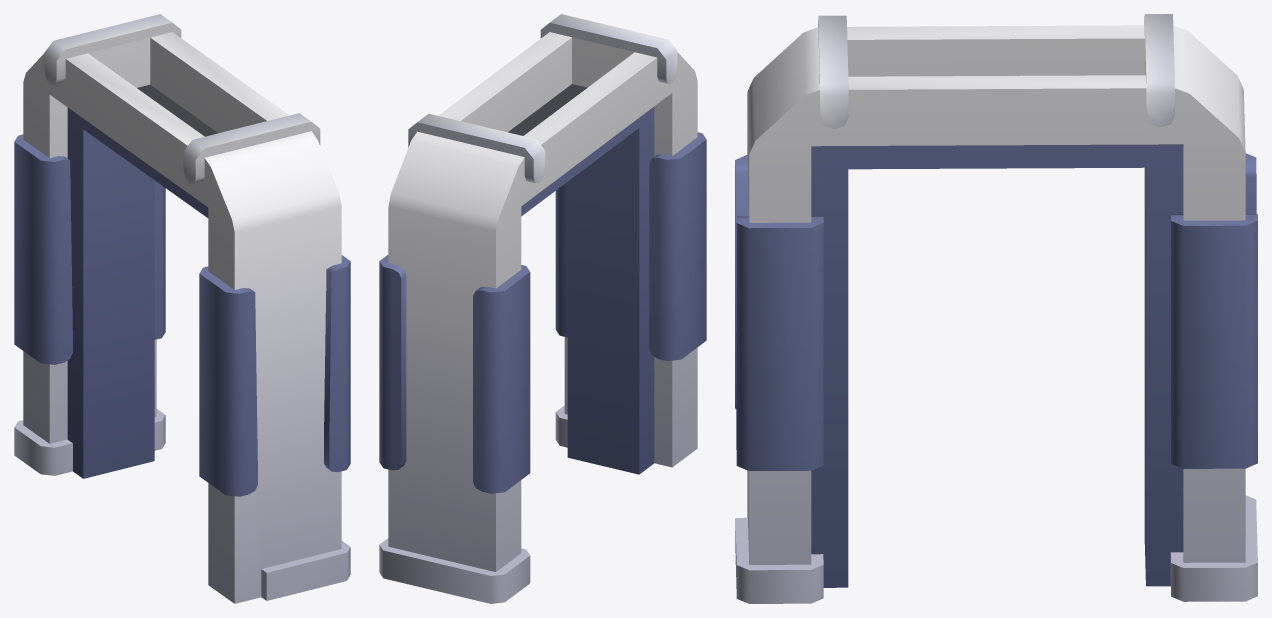
The model's file is gate-door.002_lev4.glb.
The picture shows the model from 3 angles, left to right: view 1: azimuth 30°, elevation 25°; view 2: azimuth 150°, elevation 25°; view 3: azimuth 270°, elevation 25°; orthographic projection. The views are drawn at different scales.
Visible parts, largest first — view 1: gate-door.002_lev4; view 2: gate-door.002_lev4; view 3: gate-door.002_lev4.
Boxes of the visible parts, x1,y1,x2,y2 form: gate-door.002_lev4: (14, 14, 350, 603); gate-door.002_lev4: (379, 14, 706, 603); gate-door.002_lev4: (735, 14, 1257, 603).
Size of the model in its own units: 4.34 by 13.86 by 12.64.
1 material, 1 textured.
